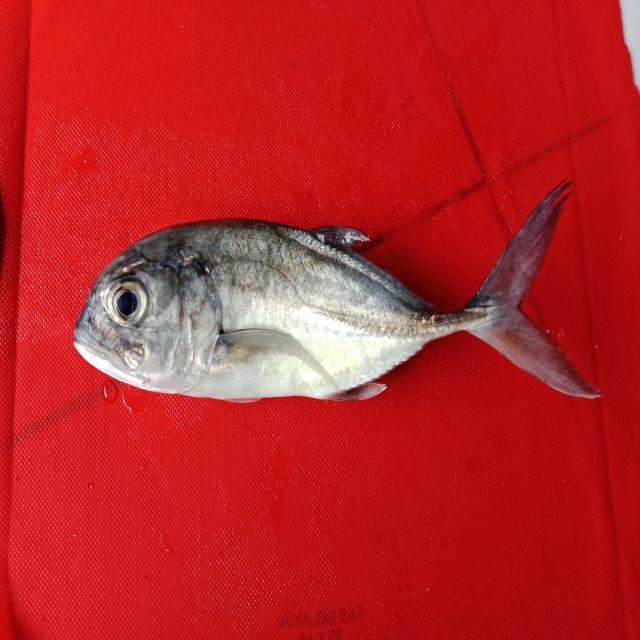ikan: (70, 168, 613, 438)
